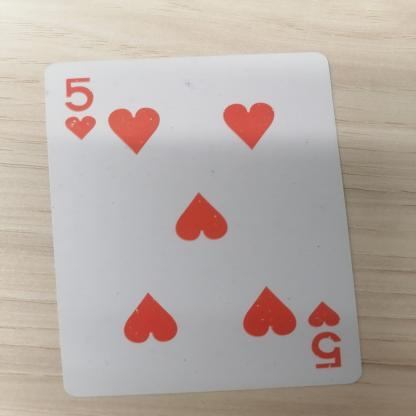5H: (284, 291, 352, 370), (56, 68, 115, 150)
